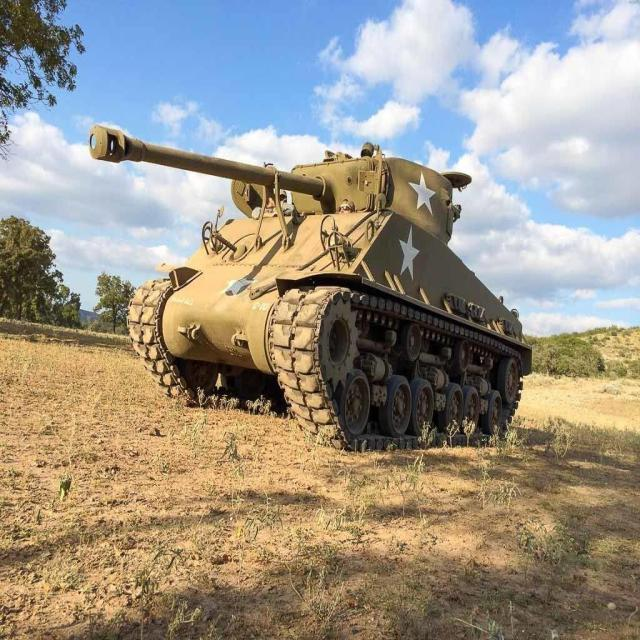MIL_MBT: (87, 71, 534, 447)
